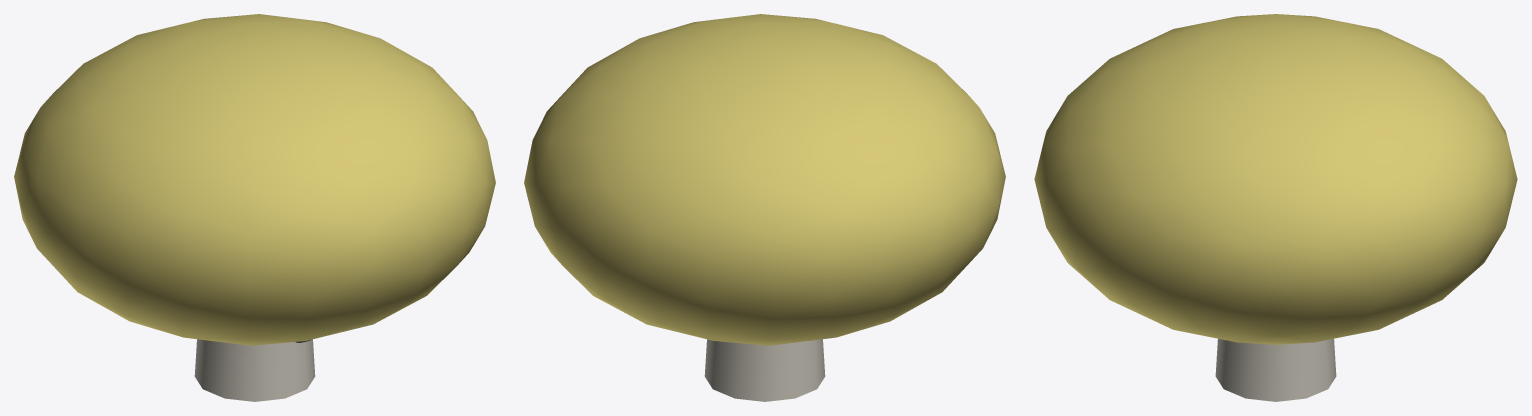
The model's file is pluteus-longistriatus.glb.
The picture shows the model from 3 angles, left to right: view 1: azimuth 30°, elevation 25°; view 2: azimuth 150°, elevation 25°; view 3: azimuth 270°, elevation 25°; orthographic projection.
Visible parts, largest first — view 1: cap, stalk; view 2: cap, stalk; view 3: cap, stalk.
Part boxes in pixels (x1,y1,x2,y2): cap: (14,14,495,345); stalk: (194,339,315,401); cap: (524,14,1005,345); stalk: (704,339,825,401); cap: (1034,14,1517,344); stalk: (1215,338,1336,401).
Bounding box in the file's own units: 0.4 × 0.3 × 0.4.
